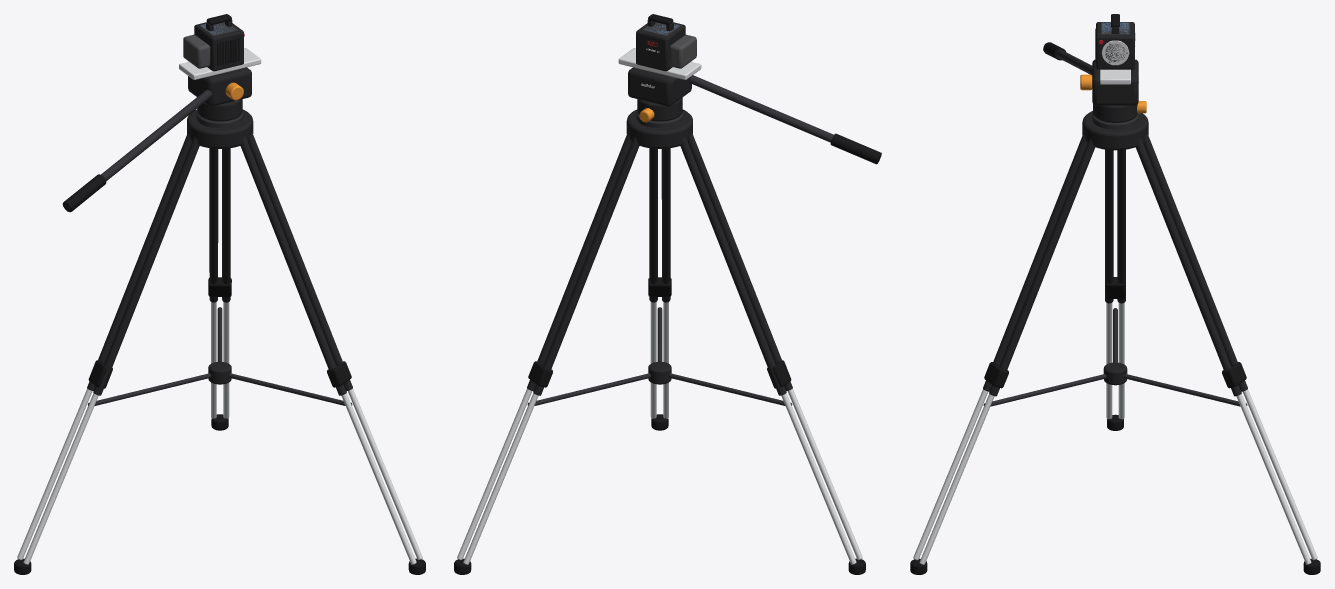
Rendered from red_komodo_tripie_video.glb.
The picture shows the model from 3 angles, left to right: view 1: azimuth 30°, elevation 25°; view 2: azimuth 150°, elevation 25°; view 3: azimuth 270°, elevation 25°; orthographic projection.
Parts seen in each view (by area): view 1: RED Komodo 6K en tripié de video; view 2: RED Komodo 6K en tripié de video; view 3: RED Komodo 6K en tripié de video.
Part boxes in pixels (left/top/right/bottom): RED Komodo 6K en tripié de video: left=14, top=14, right=425, bottom=574; RED Komodo 6K en tripié de video: left=454, top=14, right=881, bottom=574; RED Komodo 6K en tripié de video: left=910, top=14, right=1320, bottom=574.
Size of the model in its own units: 0.9175 by 1.43 by 1.05.
